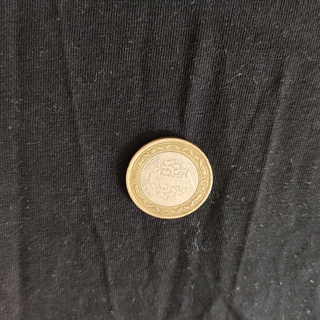1TL: (123, 135, 214, 220)
